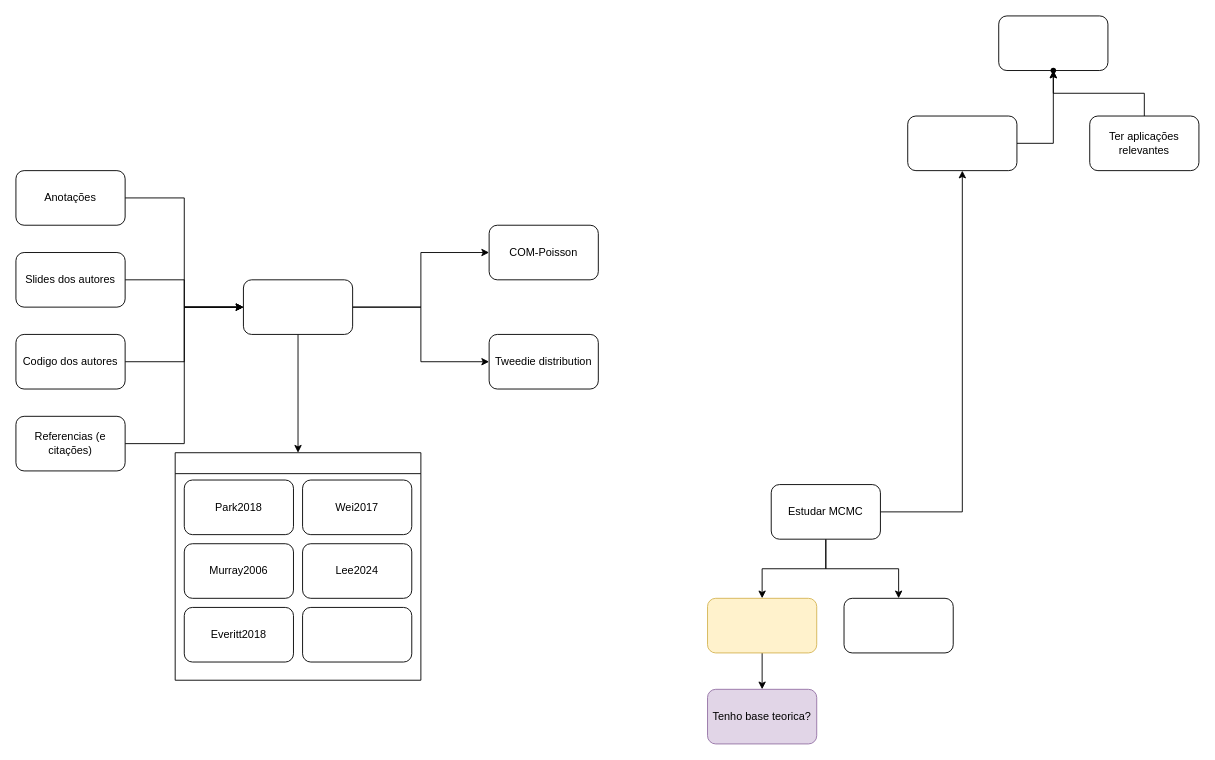
Some shapes in this 1215 by 760 pixel diagram are drawn without their labels. The box of each missing label's shape, as (x1, y1, x2, y2) in pixels:
Cites: (174, 452, 421, 680)
Escrever um paper bom: (998, 15, 1108, 71)
Exercícios do livro de MCMC: (843, 597, 953, 653)
Listas do Patrick: (707, 597, 817, 653)
Roulette Russian Paper: (243, 279, 353, 334)
Ter uma boa ideia: (907, 115, 1017, 171)
